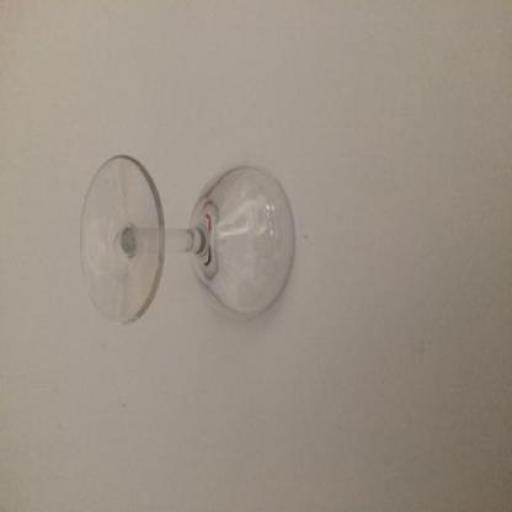glass: (79, 154, 294, 326)
